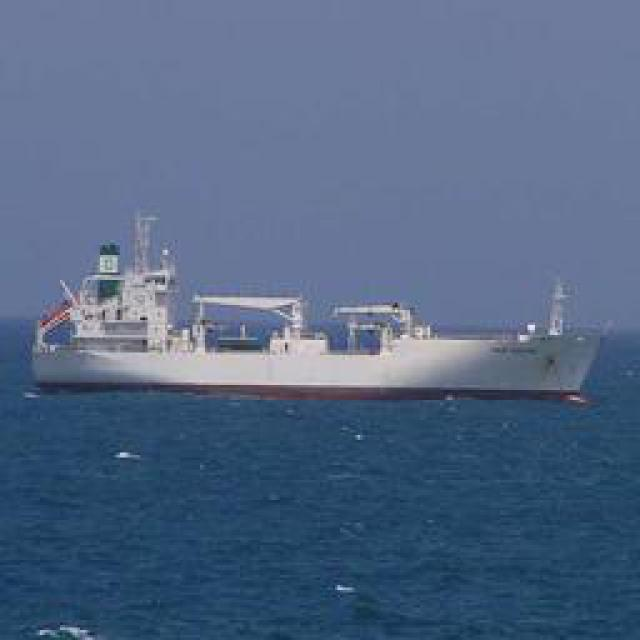Ship: (35, 238, 600, 406)
